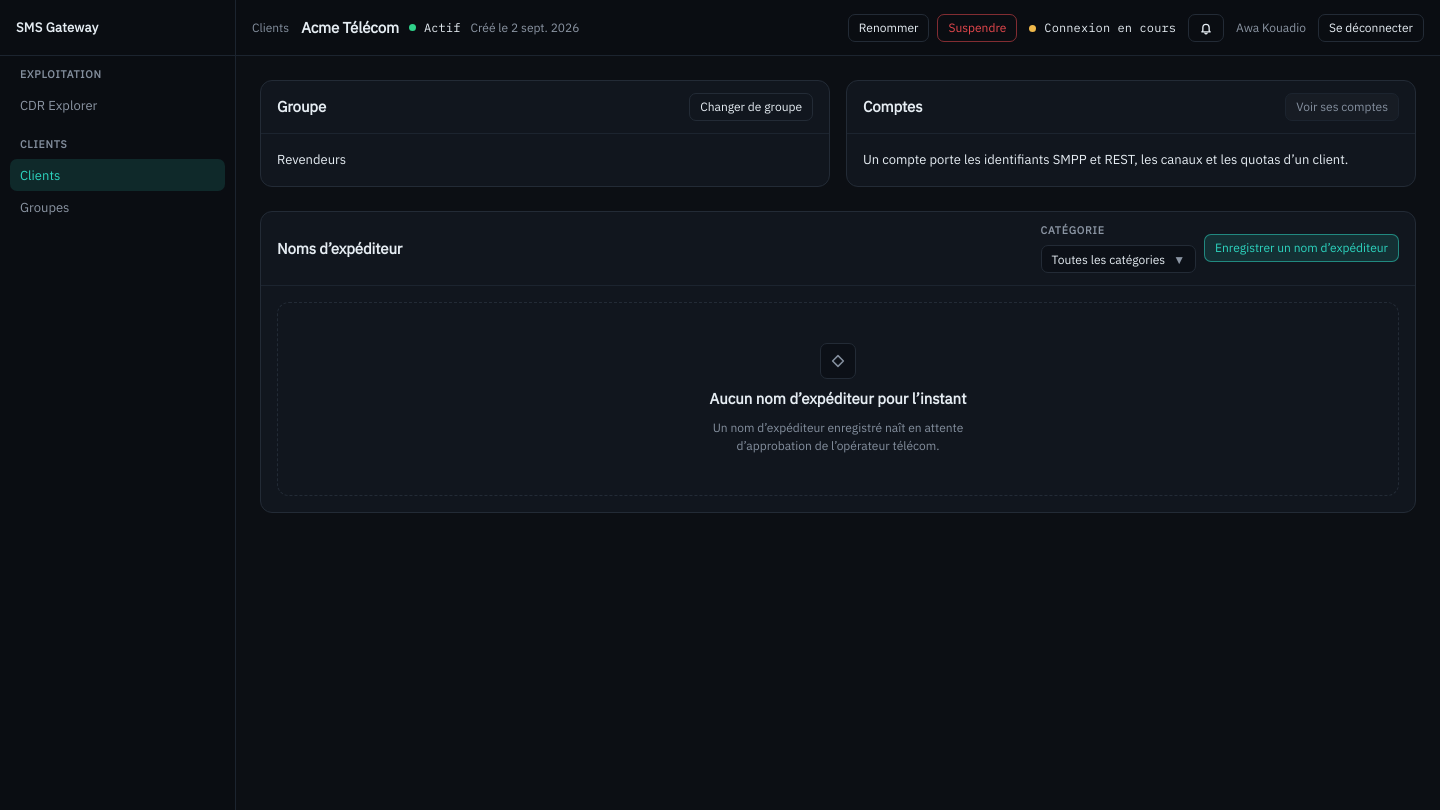
Test case: the customer screen › renames the customer
This screenshot has width=1440, height=810.
Click the button "Renommer" at (889, 28), box x1=848 y1=14 x2=930 y2=42
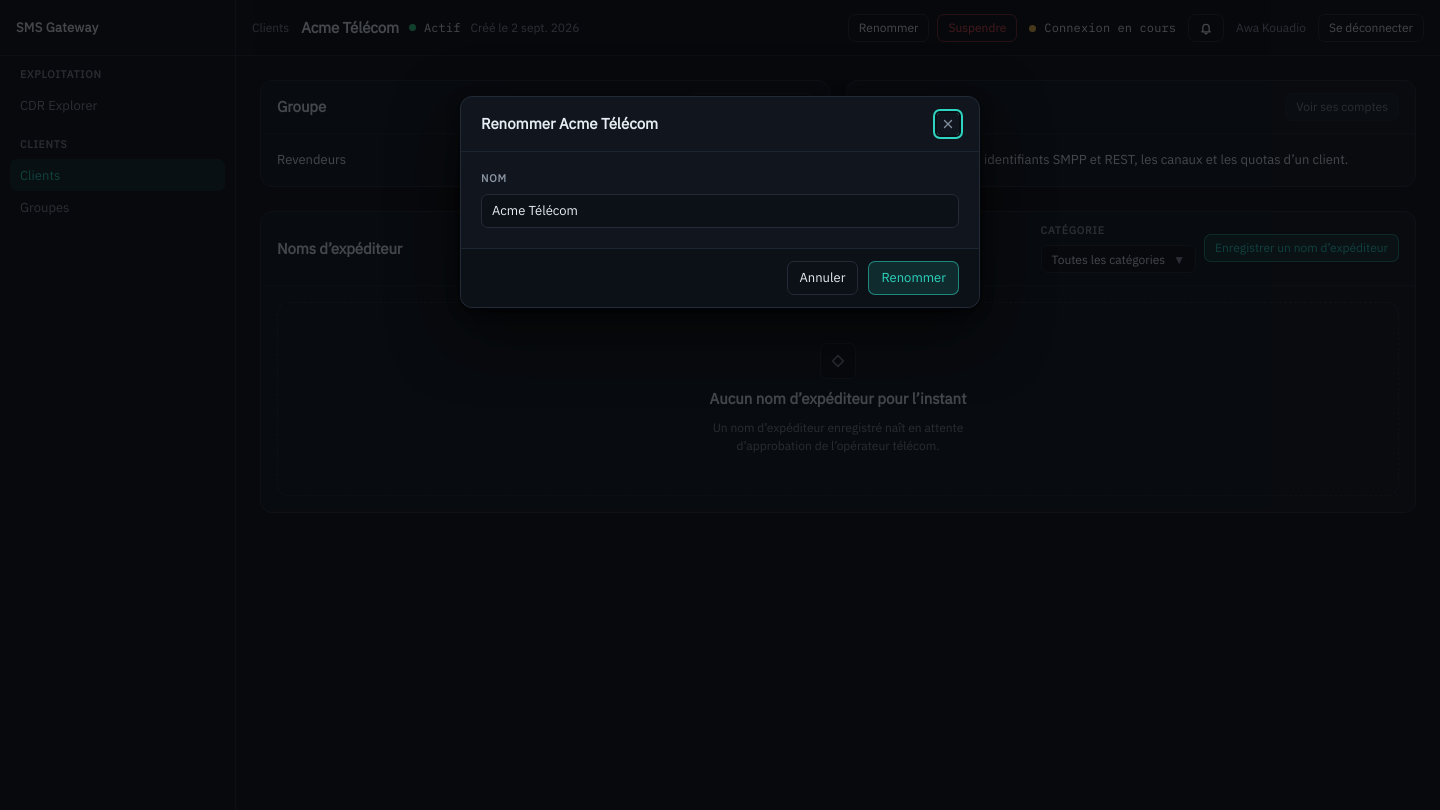
Replace the text in the field labelled "Nom" with "Acme Mobile" at (720, 211), box x1=481 y1=194 x2=959 y2=228
Then press Enter
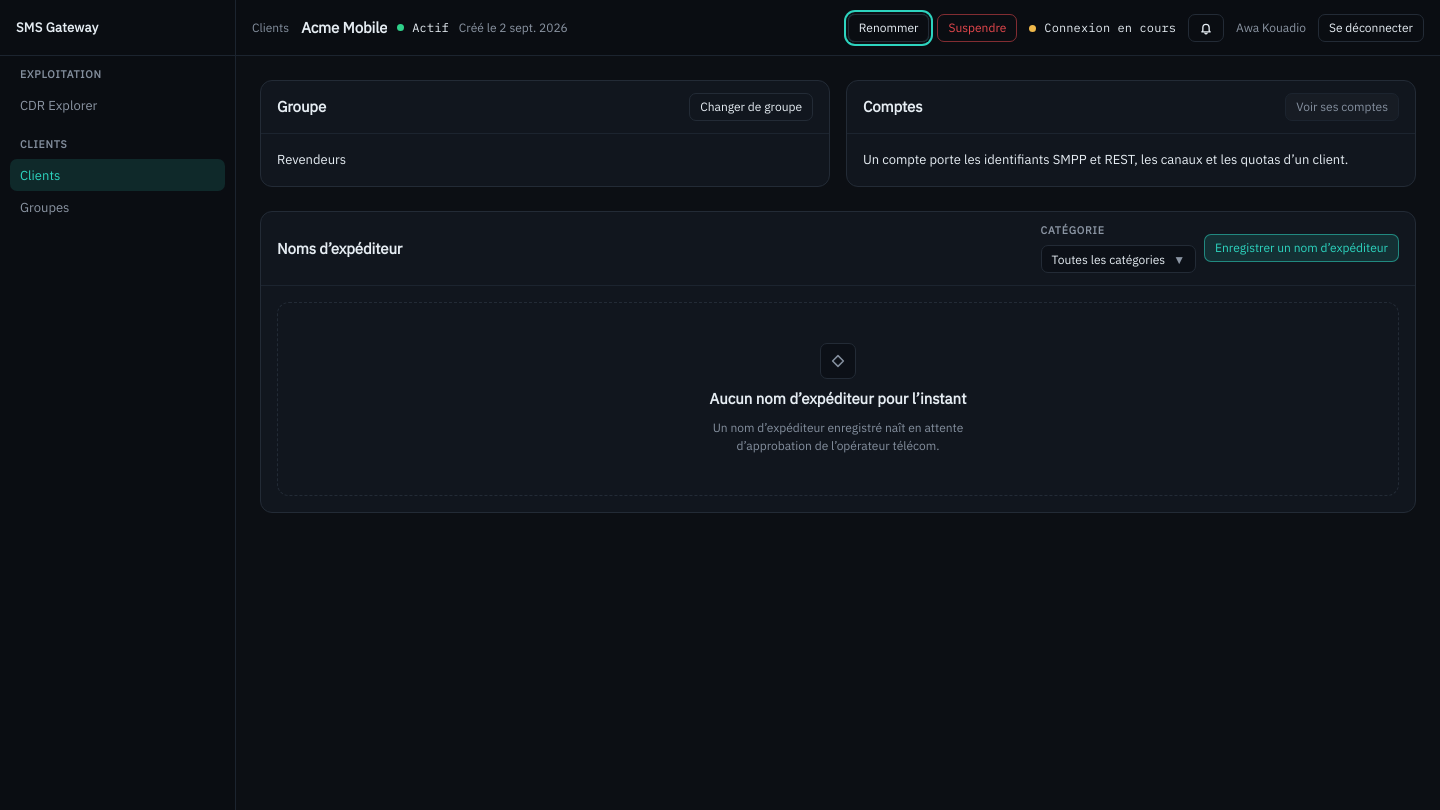
Check: the heading "Acme Mobile" is shown, box x1=301 y1=18 x2=387 y2=37
